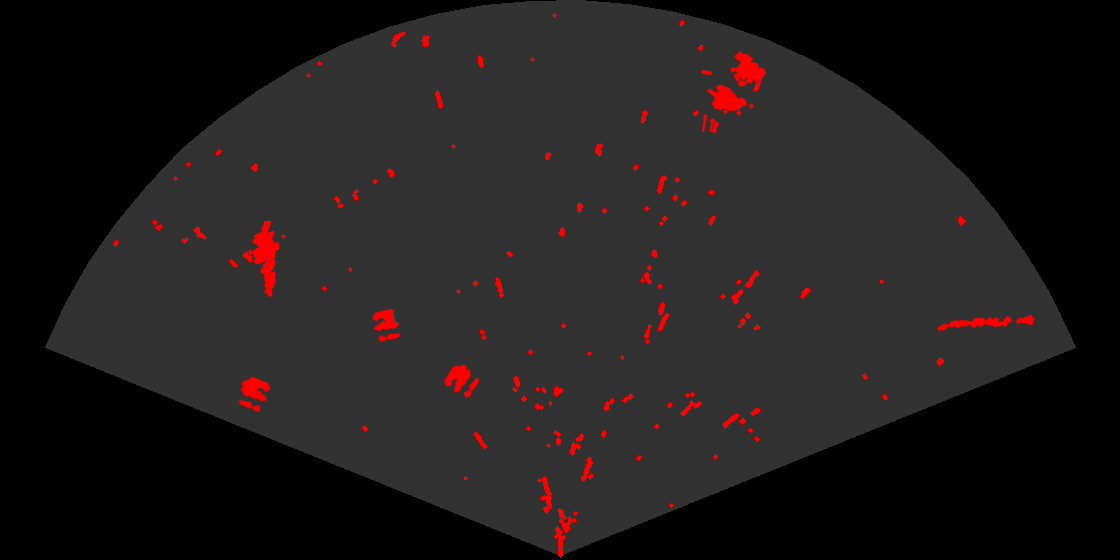ball: (443, 363, 481, 399), (237, 375, 272, 414), (371, 307, 402, 343)
cage: (702, 50, 768, 132)
chain: (935, 313, 1036, 333)
frogman: (246, 221, 281, 299)
